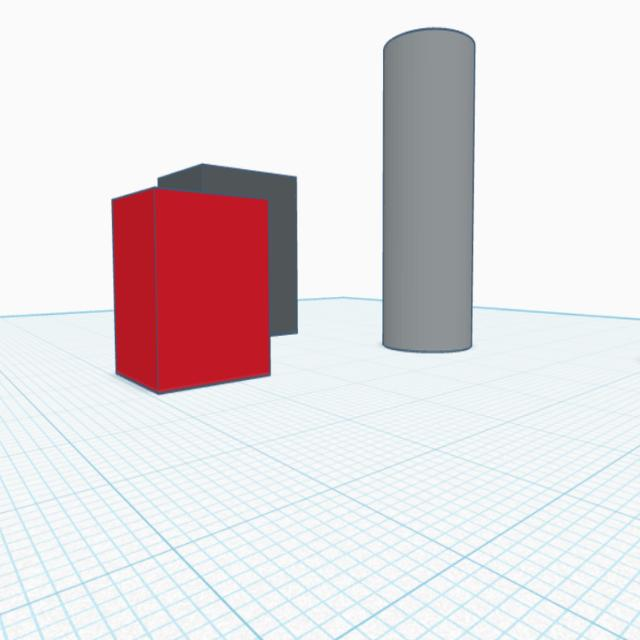cube: (109, 185, 274, 399)
